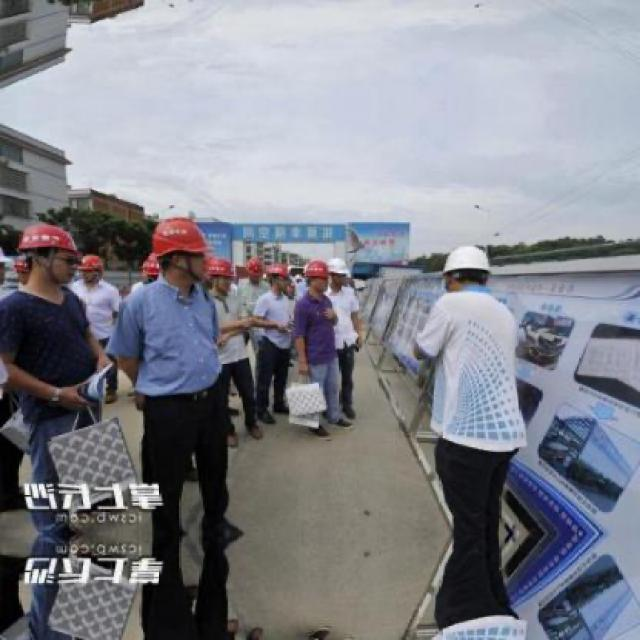helmet: (154, 217, 212, 284), (23, 224, 83, 284), (440, 244, 491, 296), (209, 254, 237, 292), (80, 253, 105, 285), (143, 250, 166, 284), (309, 260, 331, 292), (268, 264, 292, 293), (329, 259, 351, 288), (245, 256, 266, 284)
